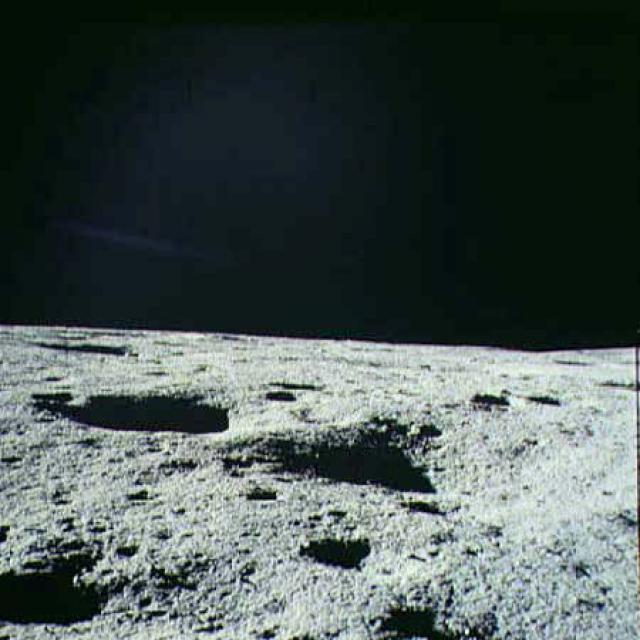crater: (234, 408, 638, 499), (0, 546, 142, 639), (35, 385, 246, 441), (287, 527, 481, 586), (340, 592, 540, 638), (515, 385, 638, 414), (36, 336, 144, 360), (24, 383, 90, 408), (116, 483, 170, 508), (460, 386, 518, 409), (258, 374, 332, 391), (238, 486, 283, 506), (256, 387, 296, 405)
